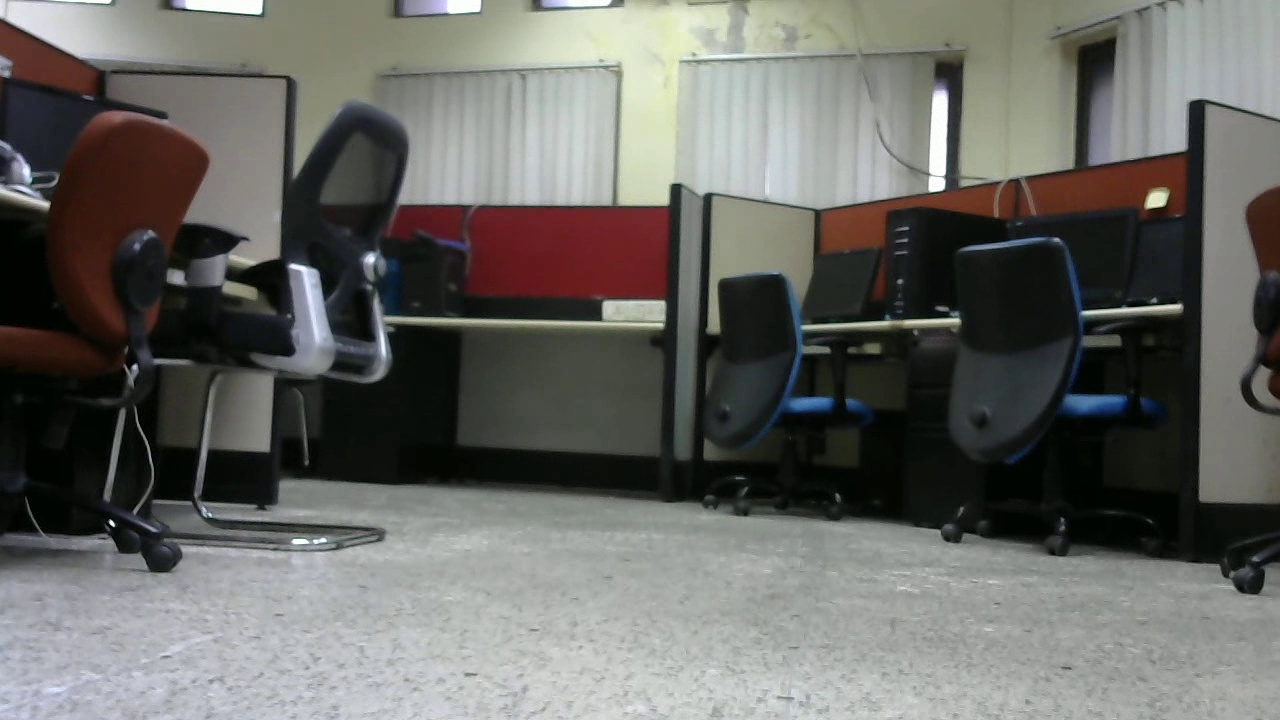chair: (213, 91, 423, 579), (5, 108, 199, 578), (908, 232, 1169, 555), (673, 267, 898, 525)
